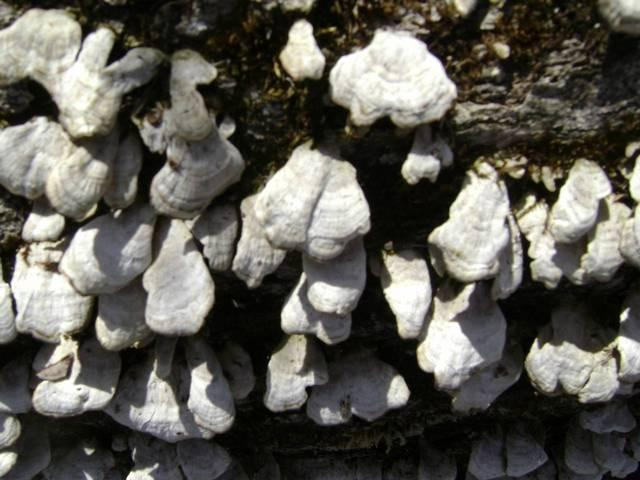poisonous_mushroom: (2, 2, 640, 476), (251, 139, 372, 345), (326, 26, 459, 185)
